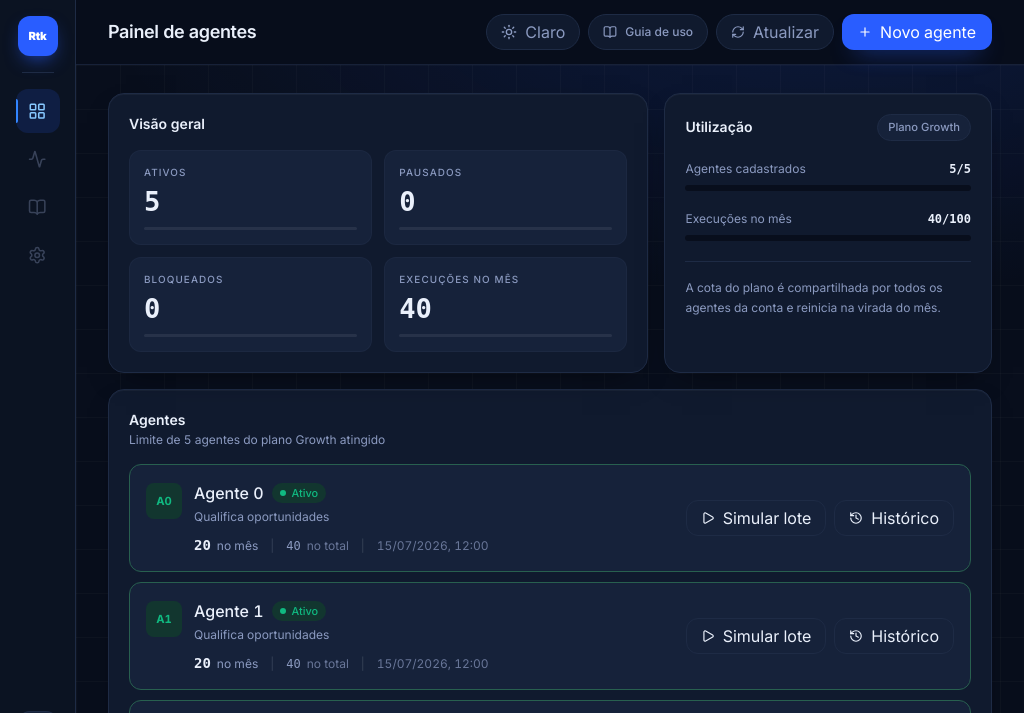
Test: dashboard integrado › abre um aviso explicativo quando o plano atinge o limite de agentes
Expected: the text "Limite de 5 agentes do plano Growth atingido" is shown, [129,432,385,448]
Click the button "Novo agente" at (917, 32), box [842,14,992,50]
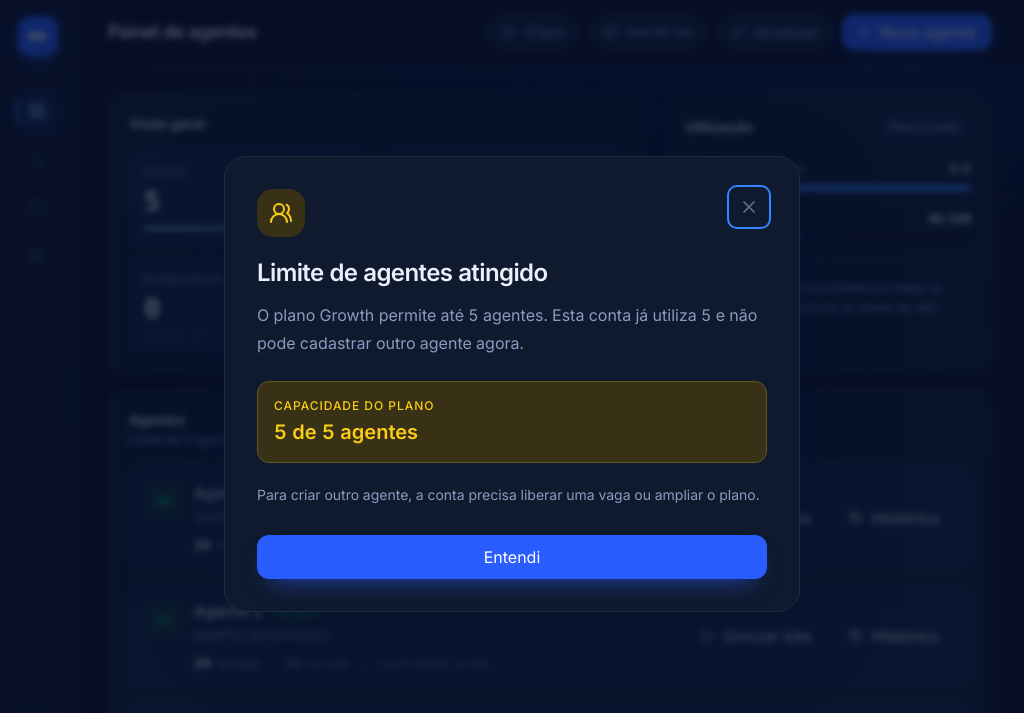
Expected: the heading "Limite de agentes atingido" is shown, [257,258,548,287]
Expected: the text "plano Growth permite até 5 agentes" is shown, [257,301,767,357]
